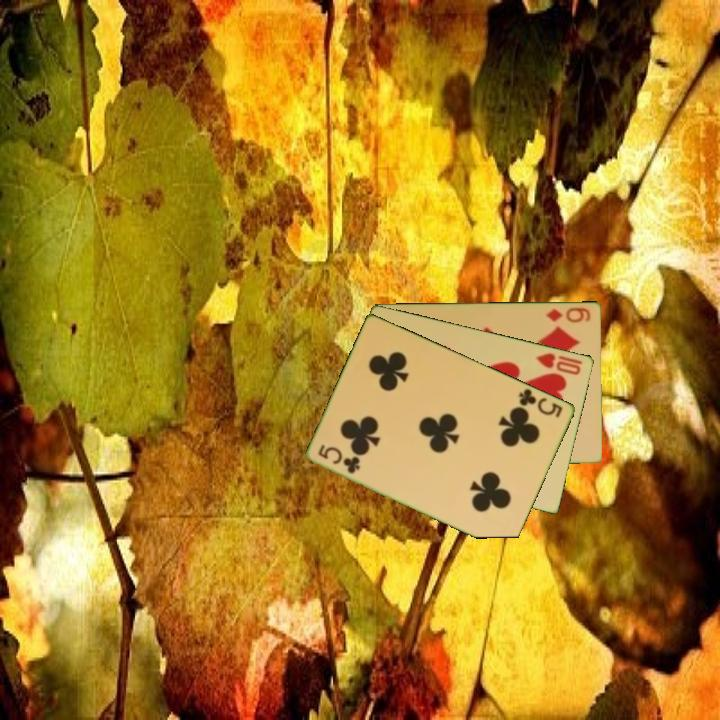10h: (532, 349, 586, 378)
5c: (515, 385, 566, 420), (315, 440, 363, 476)
6d: (543, 304, 594, 325)
